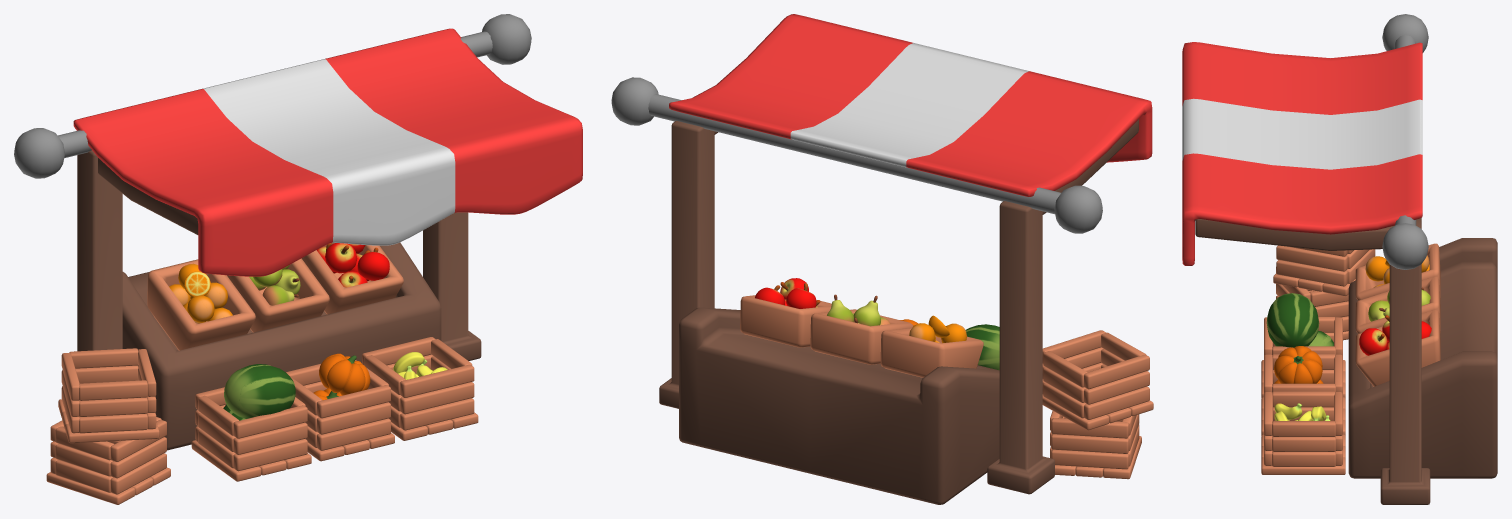
Rendered from fruit stand.fbx.
The picture shows the model from 3 angles, left to right: view 1: azimuth 30°, elevation 25°; view 2: azimuth 150°, elevation 25°; view 3: azimuth 270°, elevation 25°; orthographic projection. The views are drawn at different scales.
Parts seen in each view (by area): view 1: Cube.002; view 2: Cube.002; view 3: Cube.002.
Boxes of the visible parts, box(x1,y1,x2,y2) form: Cube.002: box(14, 14, 582, 504); Cube.002: box(611, 14, 1153, 504); Cube.002: box(1182, 14, 1497, 504).
Size of the model in its own units: 438 by 264 by 254.
